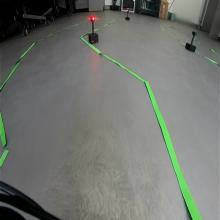red: (90, 15, 96, 23)
